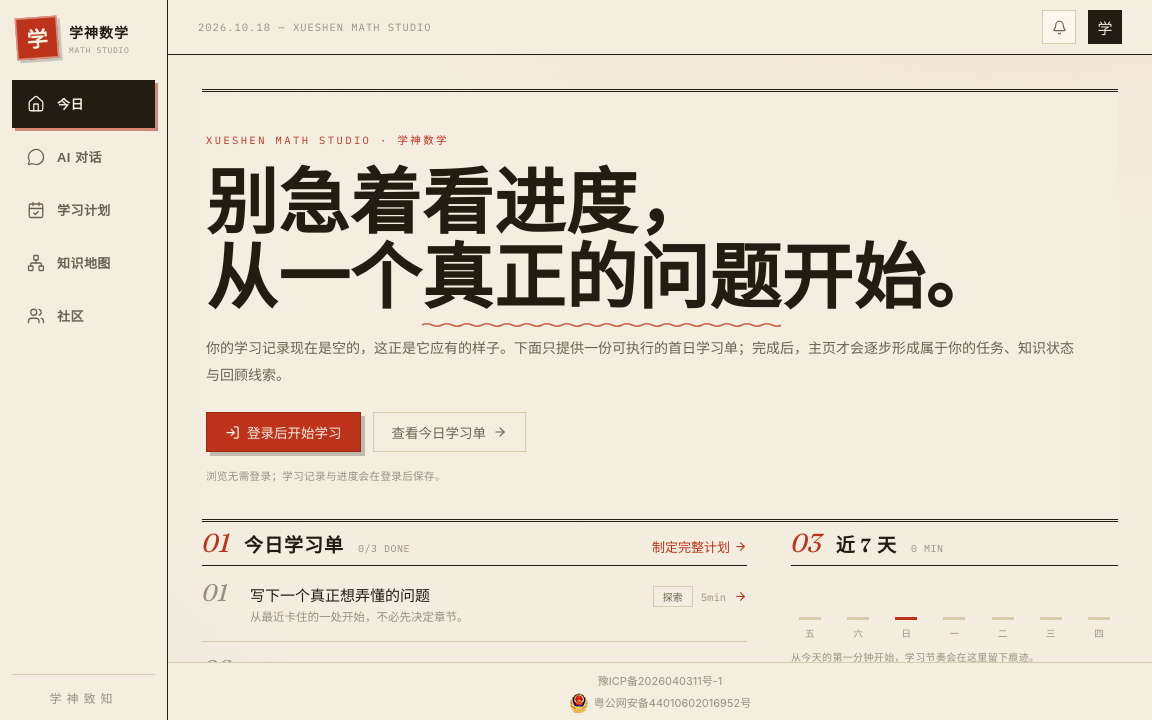
Test: App 通知面板（§6.5） › 双域通知合并按 created_at DESC 排序，key 含 source
Click the button named "通知": [1059, 27] box [1042,10,1076,44]
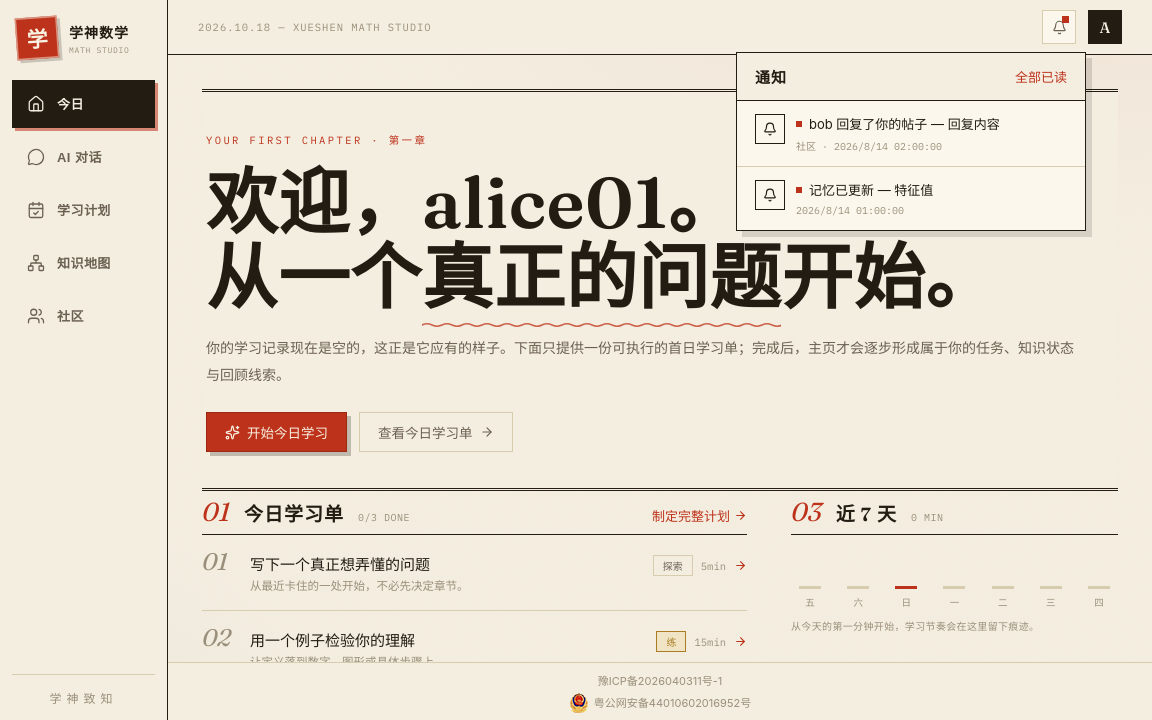
Now the text "bob 回复了你的帖子 — 回复内容" is shown, box [796,114,1000,134]
Now the number of elements with class "notif-item" is 2, box [737,101,1085,167]; [755,180,933,217]
Now the element with class "notif-item" shows "bob 回复了你的帖子", box [809,116,927,132]
